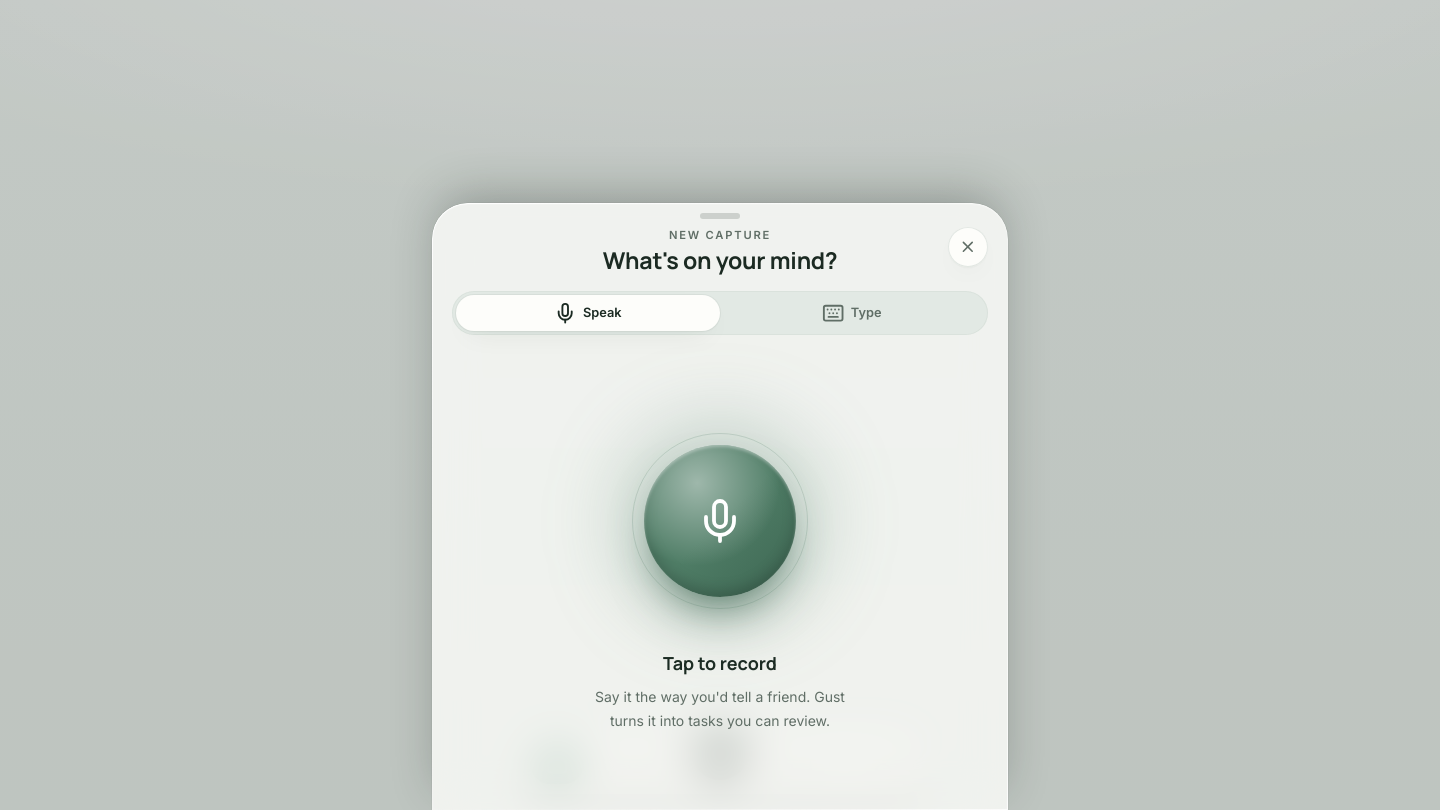
Test: capture route › keeps text fallback usable when microphone permission is denied
Click the button named "Start recording". click: (720, 520)
box: [644, 444, 796, 596]
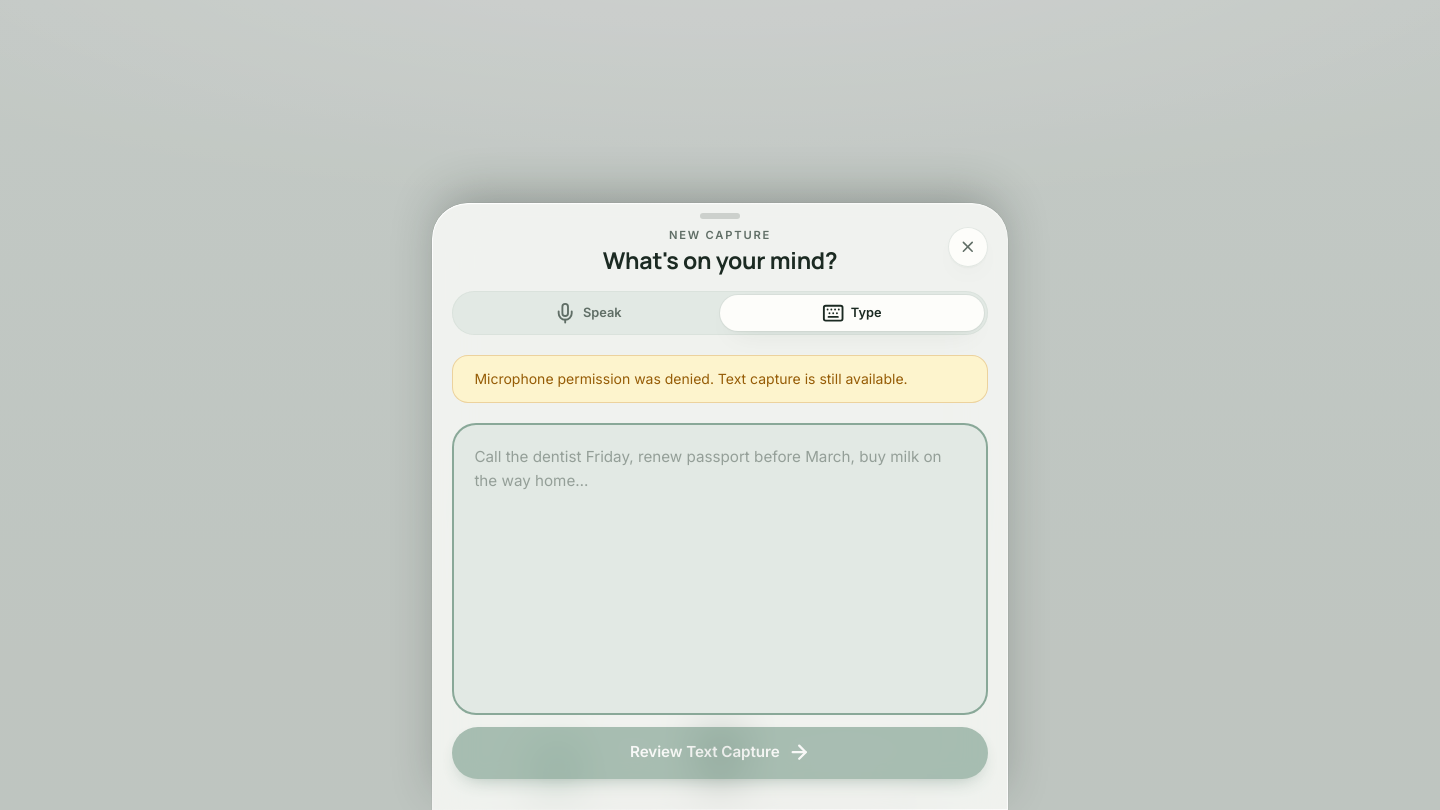
Expected: the text "Microphone permission was denied. Text capture is still available." is shown, [474, 366, 966, 390]
Expected: the text box named "Write it instead" is shown, [452, 422, 988, 714]
